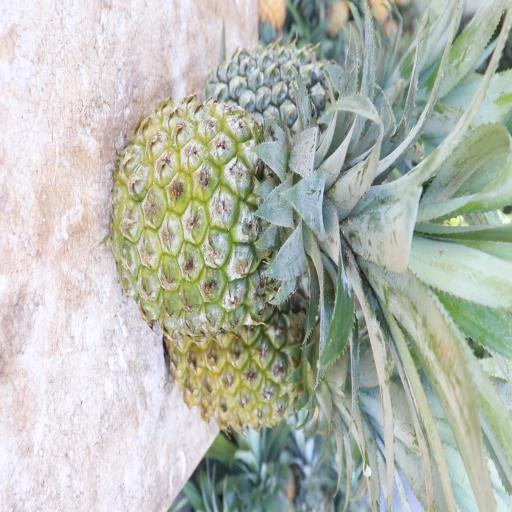------------------------------: (106, 91, 408, 342)
Pineapple - v8 v1: (159, 237, 395, 435)
